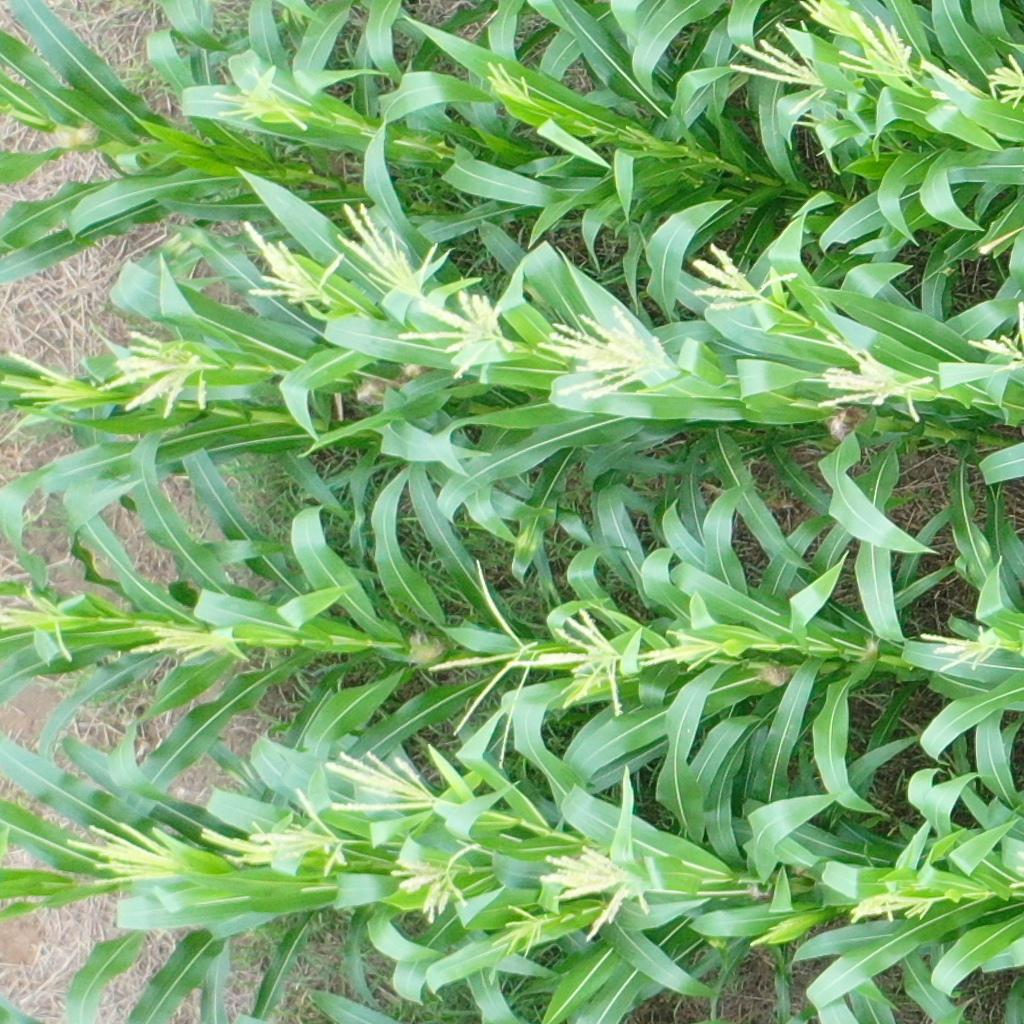Tassel: (426, 556, 536, 771), (535, 304, 680, 401), (538, 841, 658, 943), (816, 330, 935, 424), (97, 328, 219, 419), (402, 289, 519, 383), (529, 607, 628, 716), (235, 214, 348, 307), (334, 197, 436, 298), (249, 789, 355, 882), (61, 817, 185, 886), (207, 58, 314, 135), (690, 240, 800, 313), (387, 838, 484, 920), (323, 746, 438, 813), (726, 22, 829, 92), (1, 578, 79, 661), (3, 342, 93, 410), (836, 16, 919, 78), (623, 623, 723, 672), (914, 623, 1003, 674), (968, 299, 1024, 373), (846, 880, 939, 922), (127, 621, 216, 663), (198, 820, 272, 868), (491, 900, 550, 959), (480, 55, 535, 107), (922, 49, 974, 104), (796, 1, 866, 38), (984, 52, 1024, 111), (745, 916, 799, 953), (1005, 845, 1024, 892)
